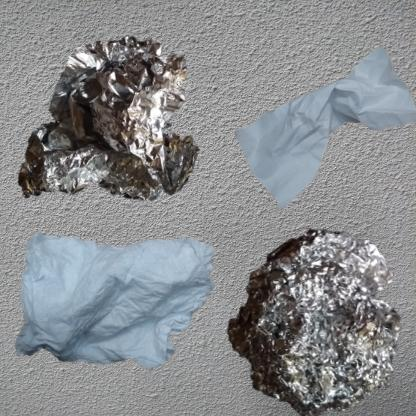aluminio: (10, 10, 245, 262), (213, 213, 416, 416)
papel: (213, 10, 416, 262), (10, 213, 229, 388)
